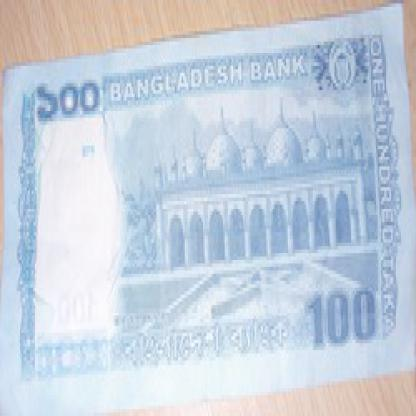one hundred taka: (300, 274, 378, 347), (32, 83, 103, 128)
